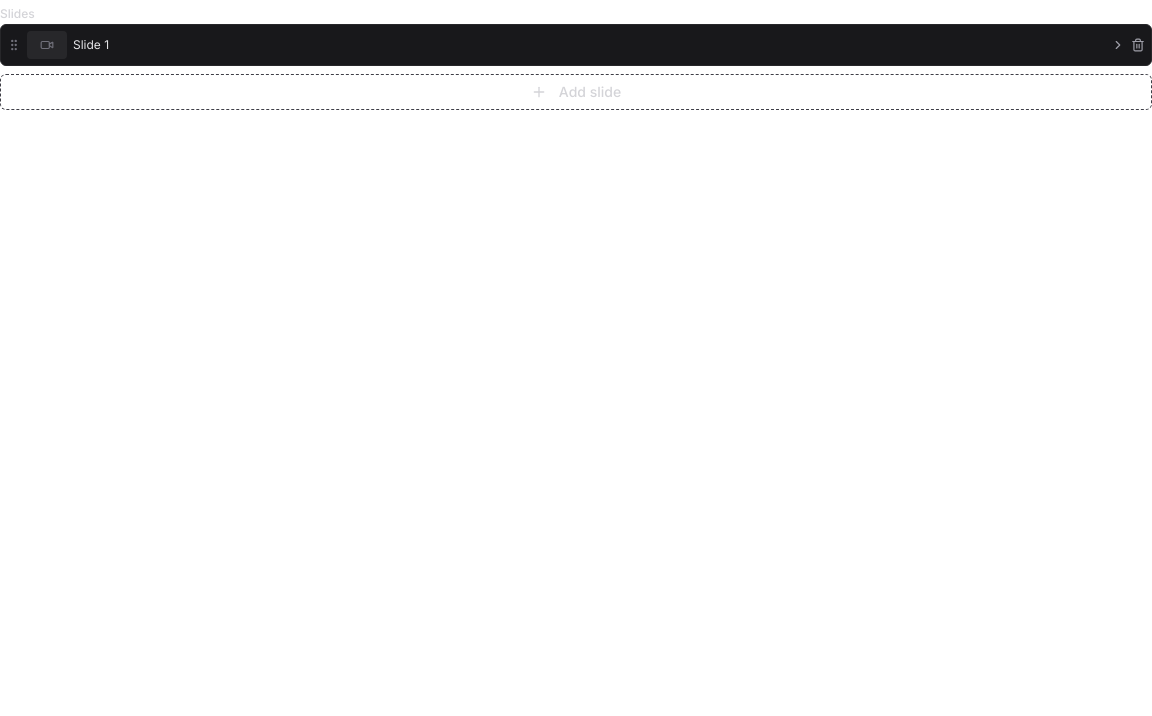
<SlideshowImagesEditor> — per-slide field writes › expanded video row shows video-src + poster fields (not image alt)
Click the button with test id "slides-0-toggle" at (1118, 45), box [1111, 38, 1125, 52]
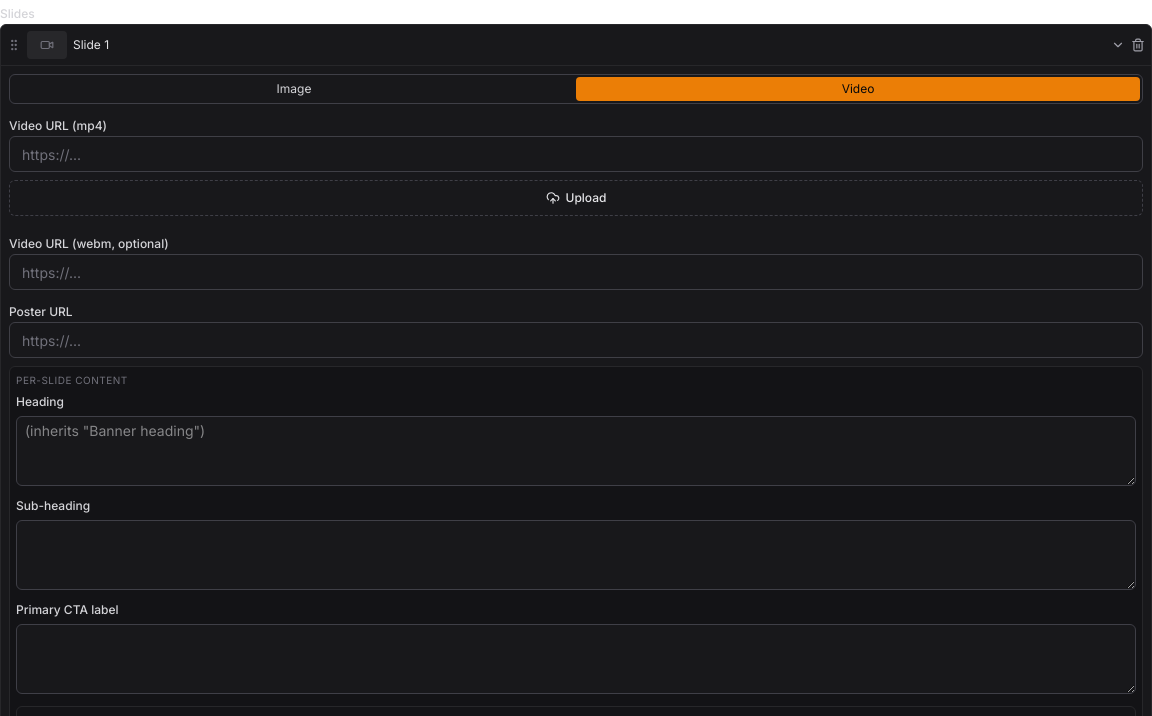
Now the field with test id "slides-0-video-src" is shown, box [9, 136, 1143, 172]
Now the field with test id "slides-0-video-poster" is shown, box [9, 322, 1143, 358]
